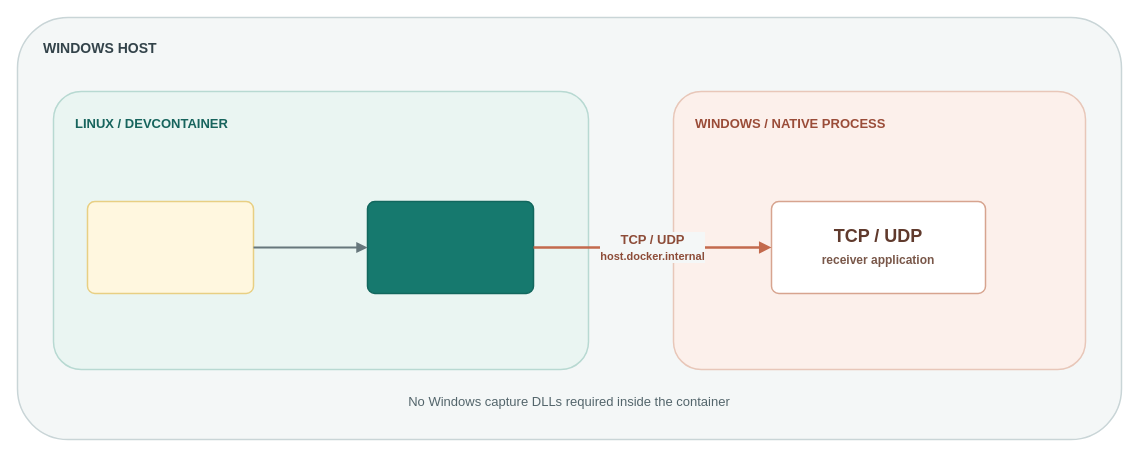
Some shapes in this 1140 by 458 pixel diagram are drawn without their labels. The shapes that lost their labels are listed below. From the top down, each one's centre as x and y in pixels, then its label:
At point (170, 247): "pcap / pcapng capture file".
At point (450, 247): "5p read and replay".
